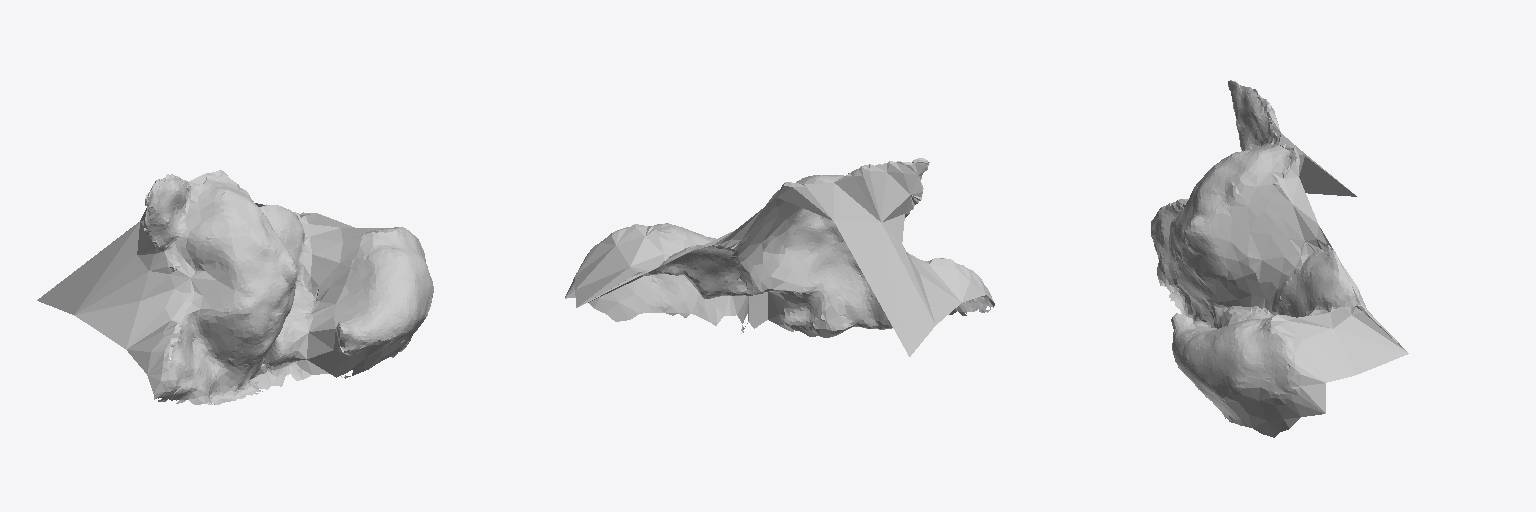
The model's file is fox3D.obj.
3 renders of one model, left to right at view 1: azimuth 30°, elevation 25°; view 2: azimuth 150°, elevation 25°; view 3: azimuth 270°, elevation 25°, orthographic.
Visible parts, largest first — view 1: texturedMesh; view 2: texturedMesh; view 3: texturedMesh.
Boxes of the visible parts, x1,y1,x2,y2 form: texturedMesh: [37, 170, 433, 404]; texturedMesh: [565, 158, 994, 356]; texturedMesh: [1151, 80, 1408, 437].
Size of the model in its own units: 6.51 by 3.9 by 4.04.